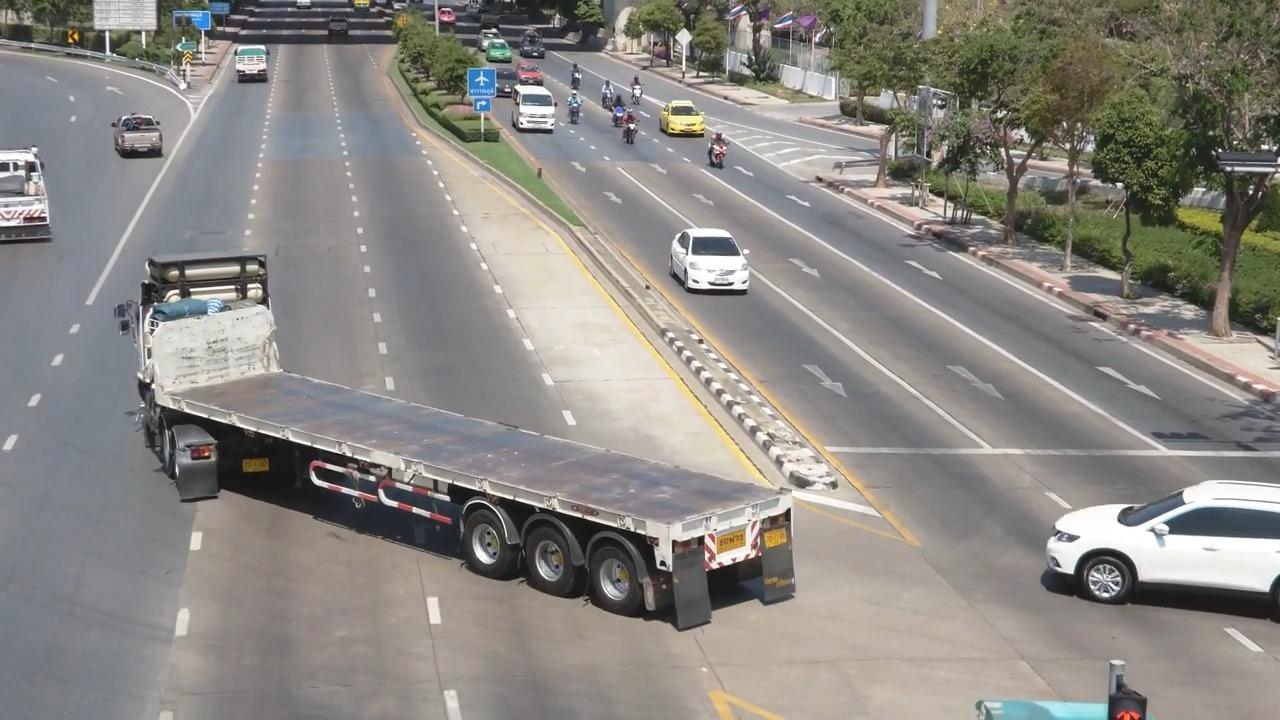CAR: (1038, 455, 1280, 637), (0, 141, 77, 262), (661, 212, 755, 296), (100, 98, 182, 175), (229, 30, 284, 90), (508, 73, 558, 133), (656, 97, 708, 142), (322, 13, 359, 53)
HGV_BUS: (120, 248, 807, 639)
MOTOR: (593, 69, 620, 116), (706, 132, 731, 182), (605, 96, 633, 138), (622, 68, 646, 101), (564, 87, 582, 127)
